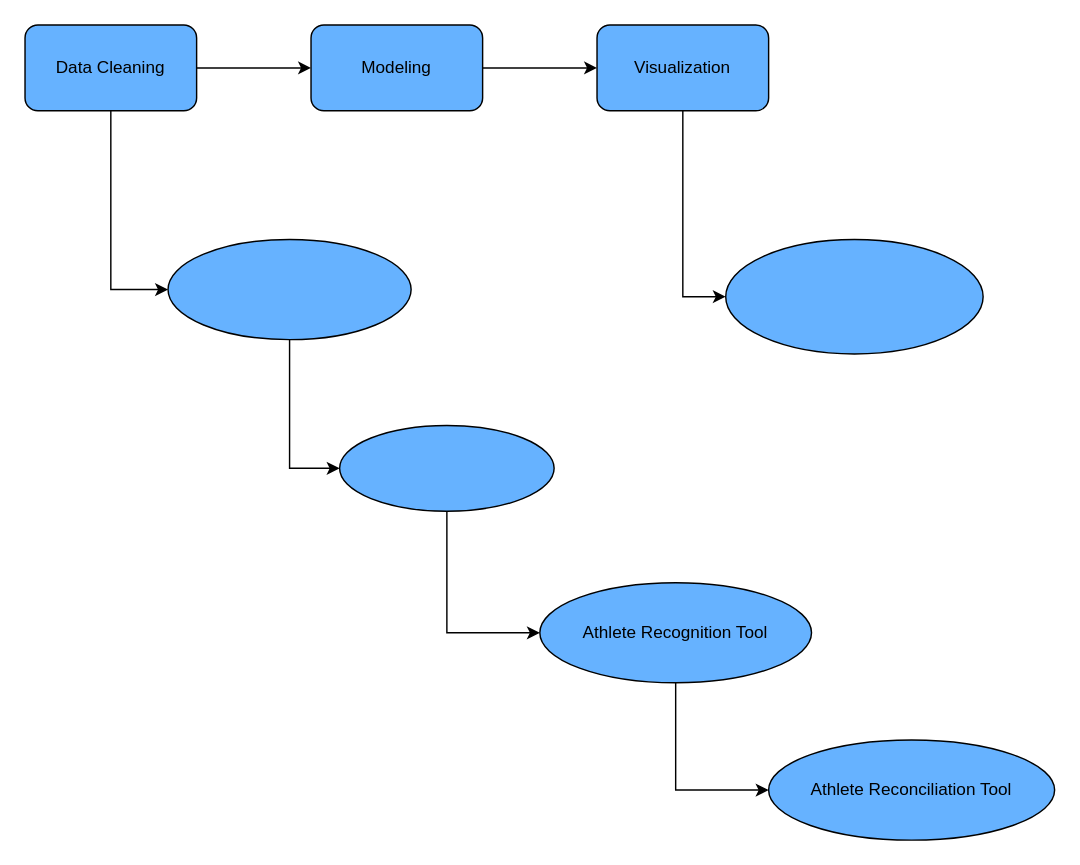
Image size: 1080x865. Some labels were removed from this diagram. Here are the shapes that lost their labels. From the top down, the box of each, then its label:
(167, 238, 411, 340): Athlete Alias Generation Tool
(724, 238, 983, 354): Alps: Web Application
(338, 424, 554, 511): Data Scraper
